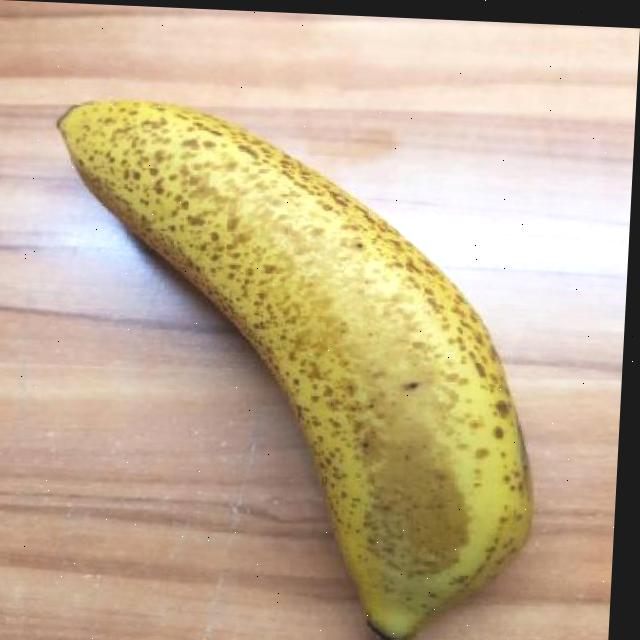banana: (31, 89, 556, 640)
